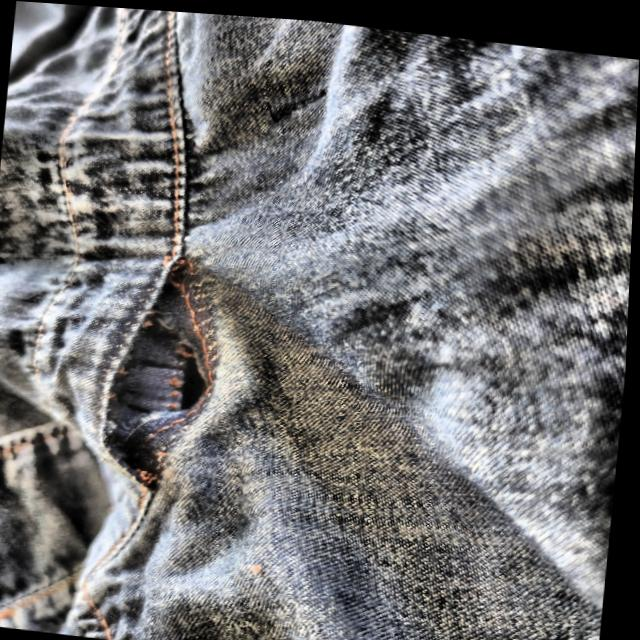seam: (93, 246, 245, 505)
